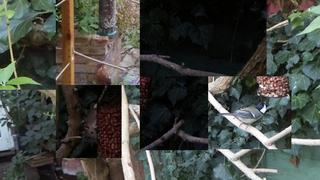great tit: (217, 100, 267, 130)
mouse: (82, 109, 98, 139)
